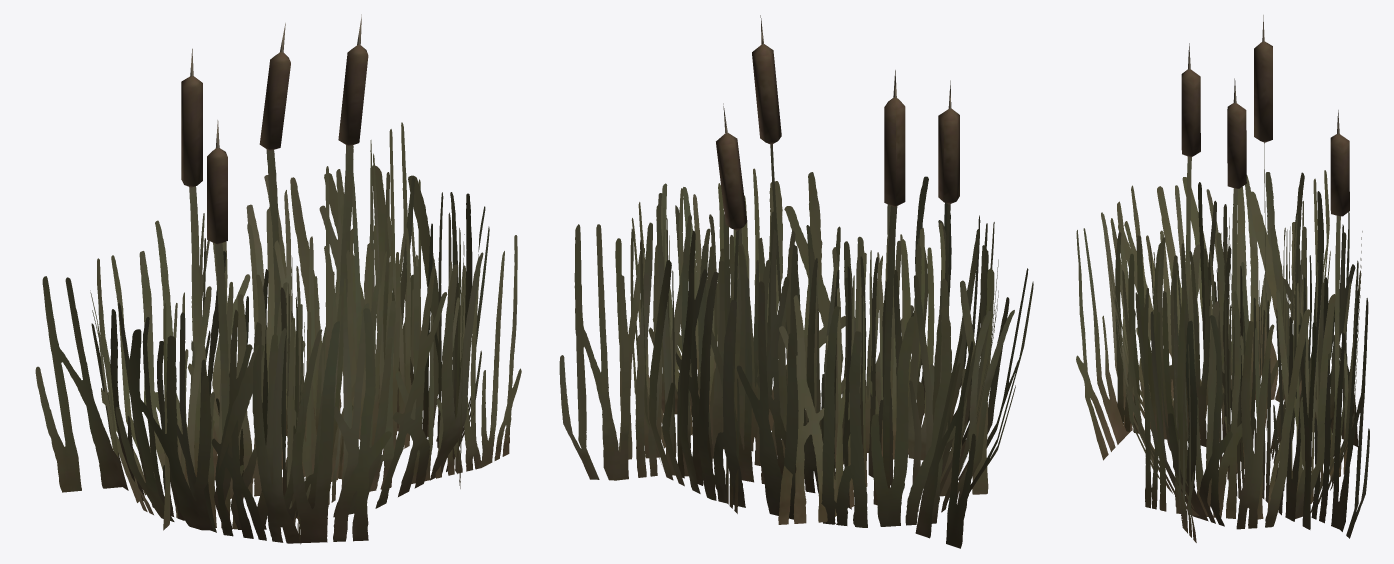
3 renders of one model, left to right at view 1: azimuth 30°, elevation 25°; view 2: azimuth 150°, elevation 25°; view 3: azimuth 270°, elevation 25°, orthographic. The views are drawn at different scales.
Parts seen in each view (by area): view 1: body0_model0_lod0_mesh0; view 2: body0_model0_lod0_mesh0; view 3: body0_model0_lod0_mesh0.
Part boxes in pixels (x1=…): body0_model0_lod0_mesh0: x1=35, y1=14, x2=521, y2=544; body0_model0_lod0_mesh0: x1=559, y1=15, x2=1033, y2=548; body0_model0_lod0_mesh0: x1=1076, y1=15, x2=1369, y2=542.
Bounding box in the file's own units: 54.07 × 54.9 × 37.3.
1 material, 1 textured.
